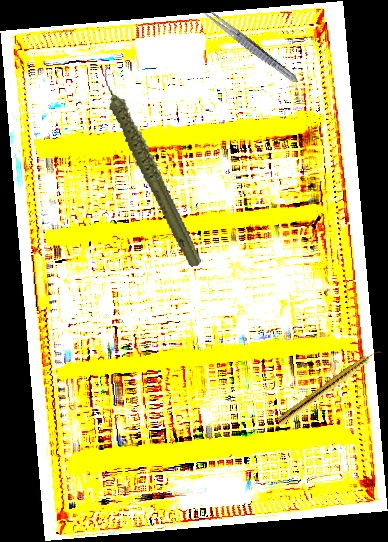Dressing Forceps: (199, 5, 302, 87)
Handpiece: (99, 54, 204, 277), (276, 345, 384, 428)
